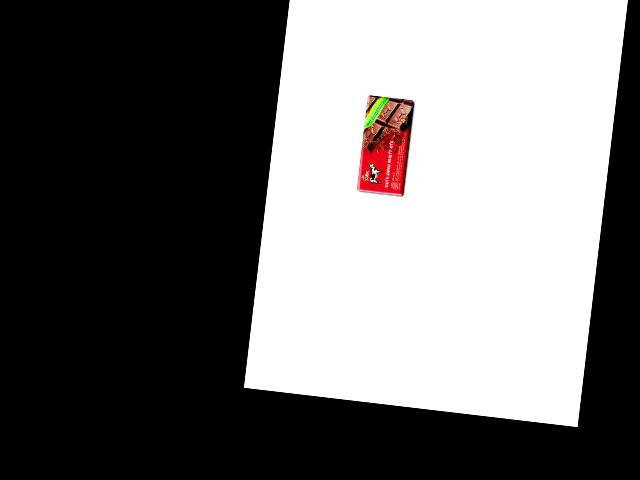chocolate: (354, 94, 419, 200)
